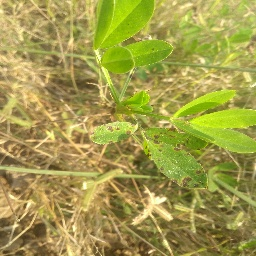GroundNut_Leaf: (145, 143, 210, 194), (93, 1, 157, 33), (87, 120, 140, 147), (172, 87, 235, 109), (137, 37, 175, 67), (187, 114, 254, 129), (100, 45, 135, 73)
